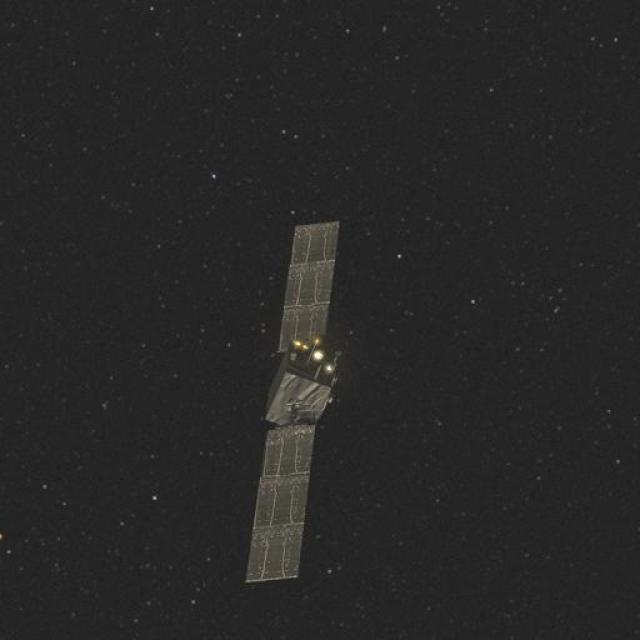smart_1: (240, 221, 335, 605)
